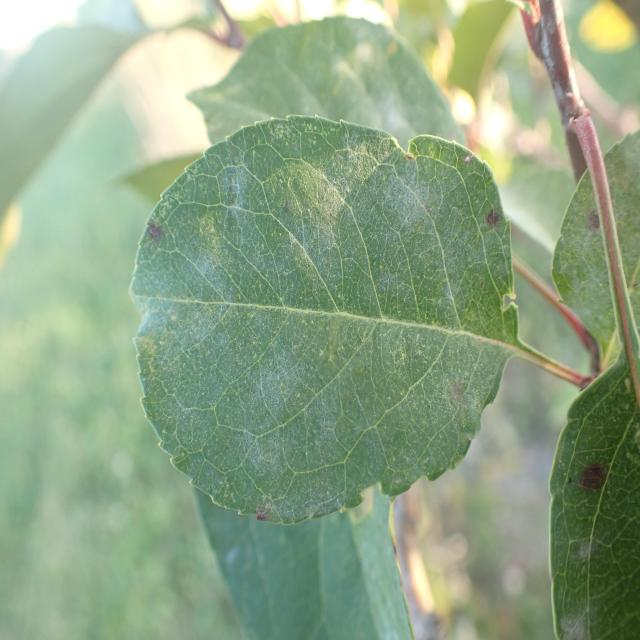Powdery_mildew: (94, 128, 528, 512)
